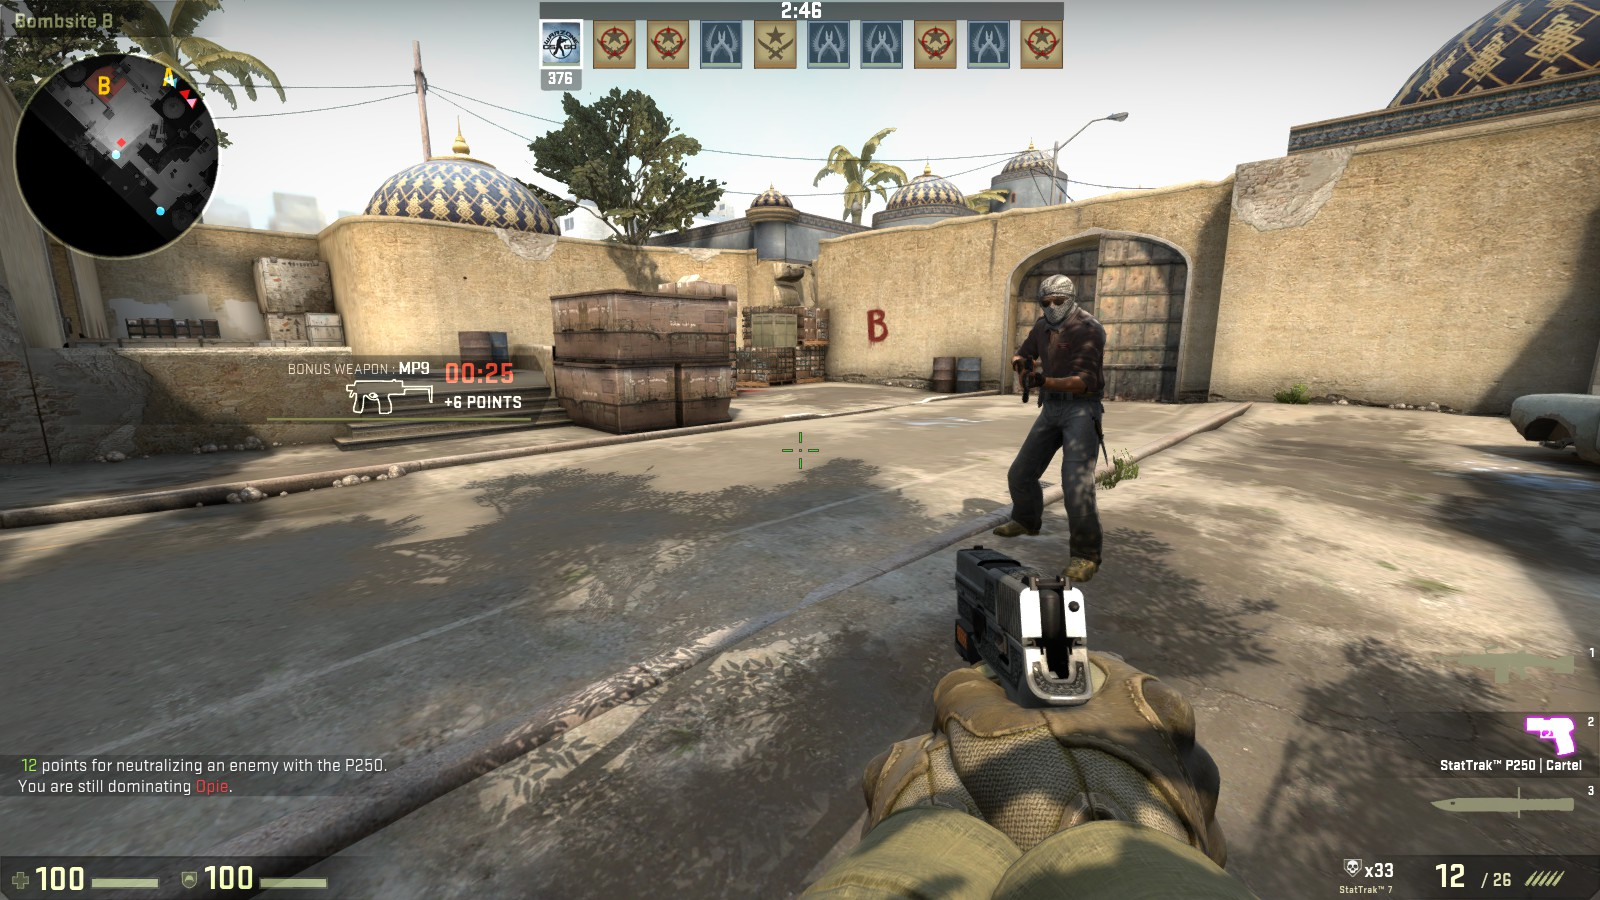t: (999, 270, 1104, 578)
th: (1026, 273, 1080, 326)
